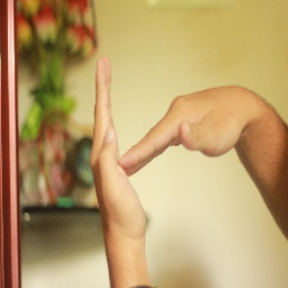Z: (77, 44, 260, 233)
